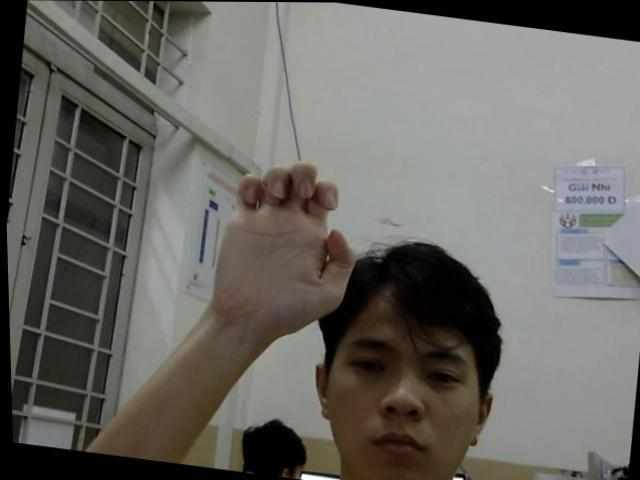E: (203, 150, 365, 336)
